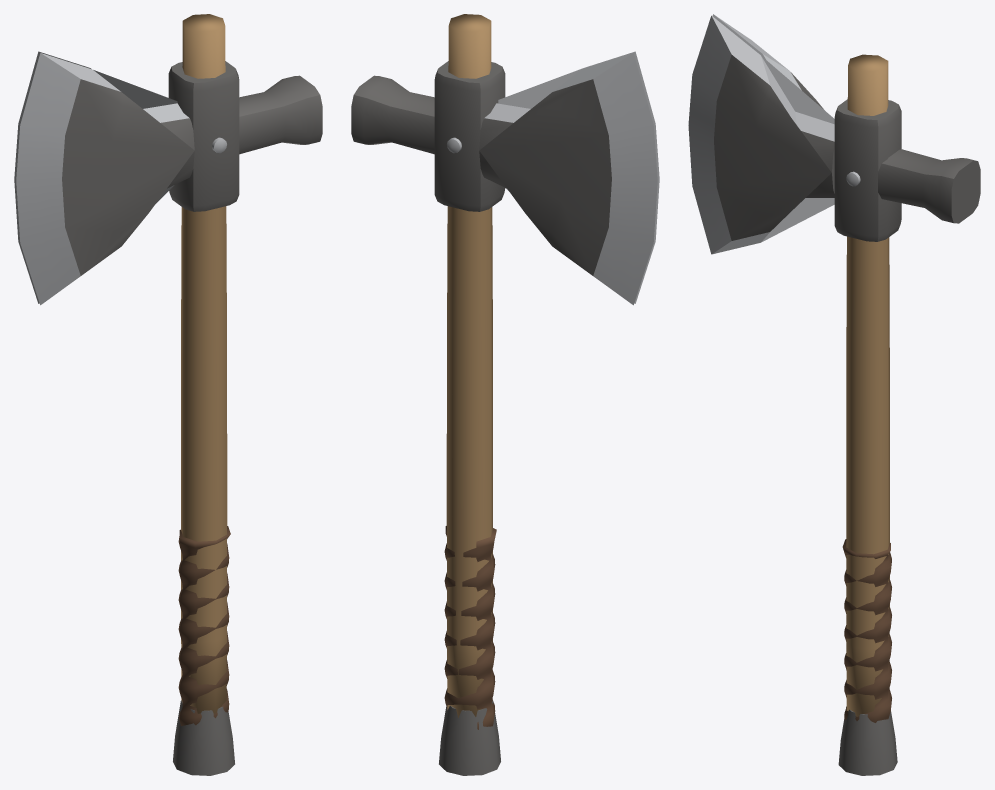
Rendered from dwarven-maulaxe.glb.
3 views of the same model, side by side, from view 1: azimuth 30°, elevation 25°; view 2: azimuth 150°, elevation 25°; view 3: azimuth 330°, elevation 25° (orthographic). The views are drawn at different scales.
Parts seen in each view (by area): view 1: dwarven-maulaxe; view 2: dwarven-maulaxe; view 3: dwarven-maulaxe.
Boxes of the visible parts, bbox=[...] form: dwarven-maulaxe: bbox=[14, 14, 322, 775]; dwarven-maulaxe: bbox=[351, 14, 659, 775]; dwarven-maulaxe: bbox=[688, 14, 980, 775].
Size of the model in its own units: 0.5227 by 1.29 by 0.1122.
